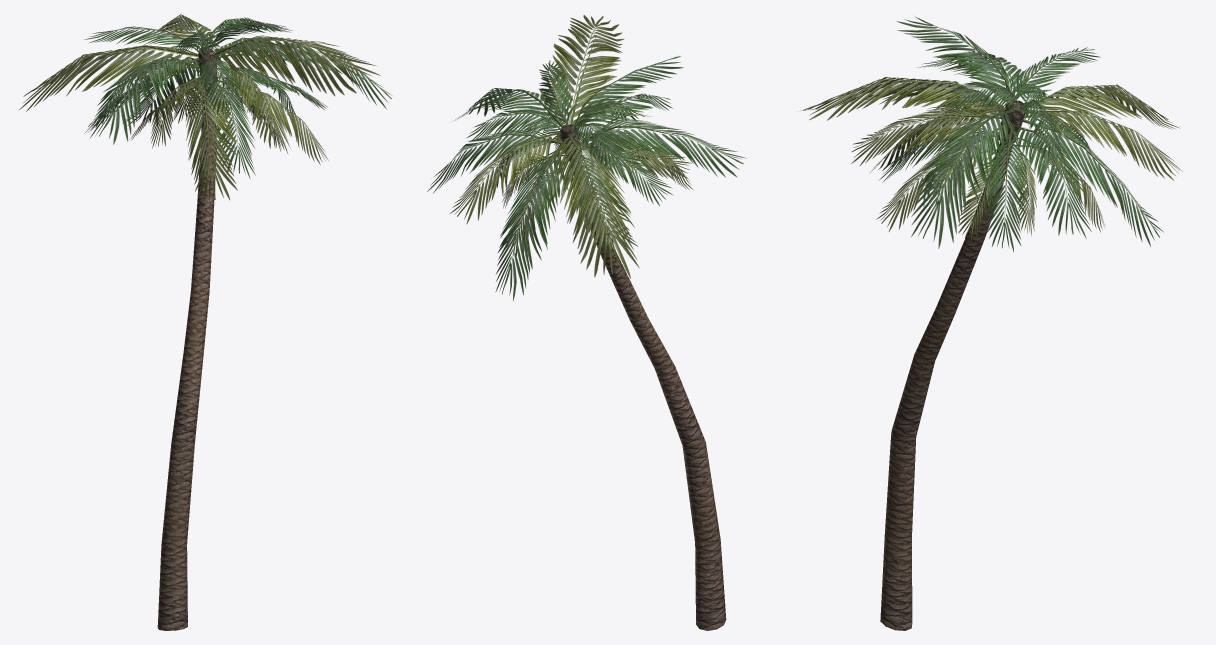
Rendered from bent_b.glb.
3 views of the same model, side by side, from view 1: azimuth 30°, elevation 25°; view 2: azimuth 150°, elevation 25°; view 3: azimuth 270°, elevation 25° (orthographic). The views are drawn at different scales.
Parts seen in each view (by area): view 1: Palm_003_w; view 2: Palm_003_w; view 3: Palm_003_w.
Part boxes in pixels (left/top/right/bottom): Palm_003_w: left=19, top=14, right=392, bottom=630; Palm_003_w: left=427, top=15, right=746, bottom=630; Palm_003_w: left=798, top=16, right=1182, bottom=630.
Bounding box in the file's own units: 4.84 × 8.5 × 5.19.
1 material, 1 textured.
